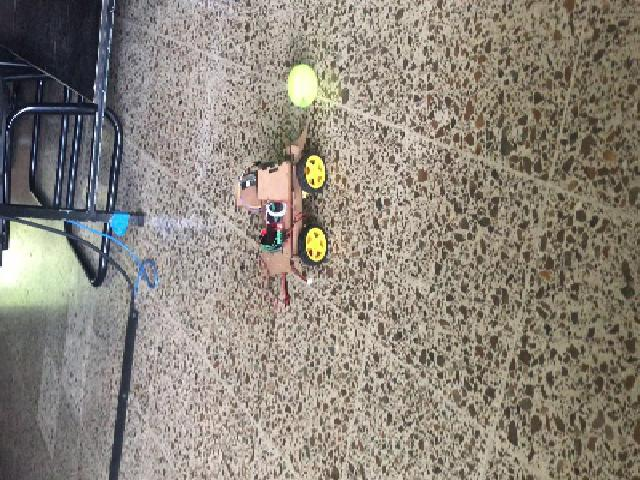Ball: (286, 64, 318, 107)
Robot: (237, 125, 328, 277)
